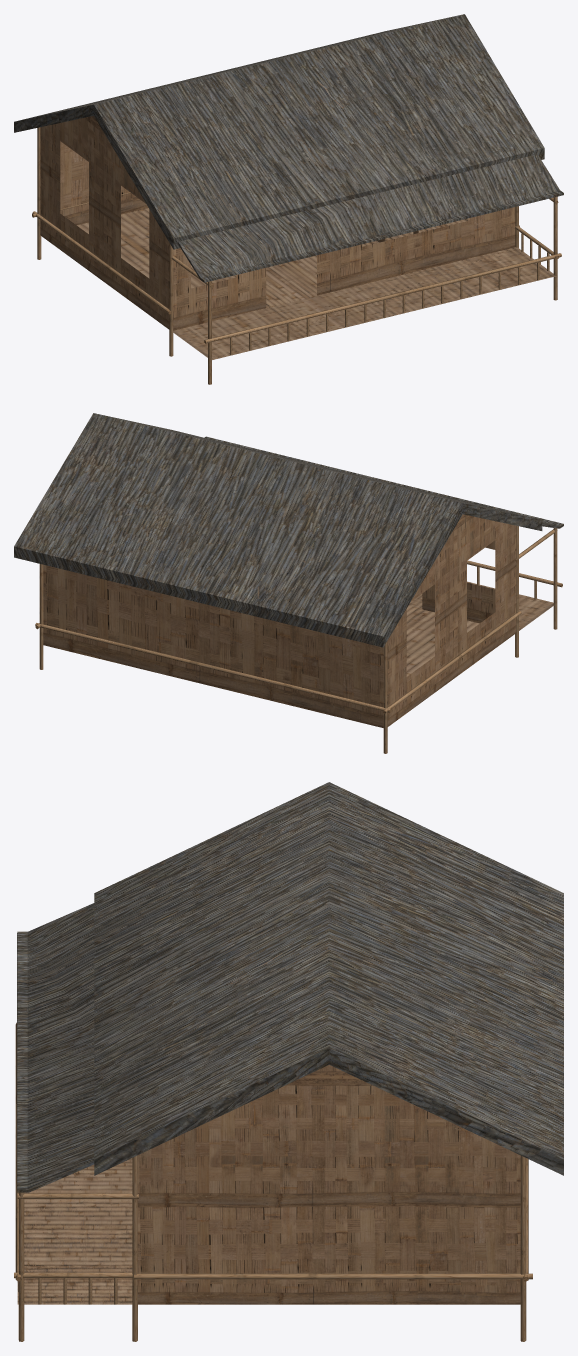
The model's file is SM_House.fbx.
3 views of the same model, one above another, from view 1: azimuth 30°, elevation 25°; view 2: azimuth 150°, elevation 25°; view 3: azimuth 270°, elevation 25° (orthographic). The views are drawn at different scales.
Parts seen in each view (by area): view 1: Roof, Roof002, Wall004, Wall001, Floor002, Floor001, Cylinder010, Wall002, Cylinder032, Cylinder008, Cylinder033, Cylinder004; view 2: Roof, Wall002, Wall004, Floor001, Cylinder009, Wall001, Cylinder032, Roof002, Floor002, Cylinder008, Cylinder004, Cylinder003 (+1 smaller); view 3: Roof, Wall003, Roof002, Floor002, Cylinder033, Cylinder007, Cylinder003, Cylinder029, Cylinder010.
Part boxes in pixels (x1,y1,x2,y2): Roof: (14, 14, 544, 249); Roof002: (178, 154, 563, 282); Wall004: (40, 115, 169, 329); Wall001: (173, 207, 515, 330); Floor002: (172, 247, 556, 360); Floor001: (77, 208, 469, 307); Cylinder010: (204, 253, 561, 355); Wall002: (60, 141, 148, 225); Cylinder032: (169, 243, 213, 384); Cylinder008: (32, 211, 171, 314); Cylinder033: (515, 196, 558, 300); Cylinder004: (37, 127, 41, 259); Roof: (14, 413, 542, 647); Wall002: (43, 564, 383, 727); Wall004: (387, 514, 516, 726); Floor001: (406, 606, 479, 676); Cylinder009: (35, 623, 391, 712); Wall001: (422, 540, 495, 623); Cylinder032: (515, 526, 557, 657); Roof002: (204, 436, 563, 528); Floor002: (408, 581, 554, 630); Cylinder008: (383, 611, 521, 713); Cylinder004: (383, 641, 387, 753); Cylinder003: (39, 564, 43, 669); Roof: (94, 782, 563, 1175); Wall003: (137, 1065, 520, 1304); Roof002: (17, 903, 94, 1192); Floor002: (17, 1158, 132, 1304); Cylinder033: (17, 1155, 138, 1341); Cylinder007: (134, 1273, 532, 1279); Cylinder003: (520, 1155, 526, 1341); Cylinder029: (14, 1272, 132, 1304); Cylinder010: (15, 1022, 21, 1292).
Bounding box in the file's own units: 698 × 369 × 609.
